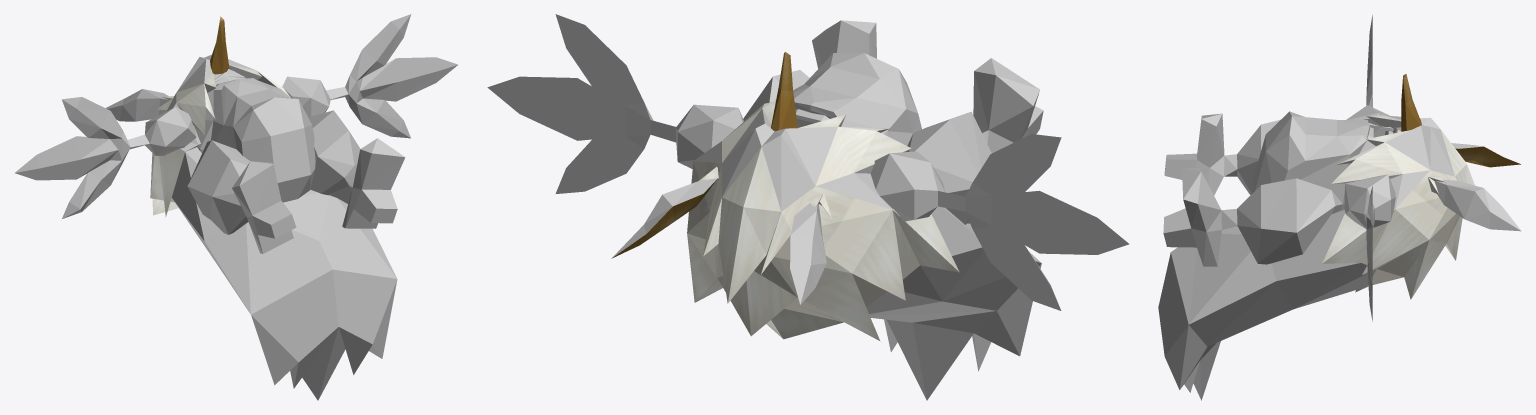
File: BR_Shiftry-Shiny01.obj
3 views of the same model, side by side, from view 1: azimuth 30°, elevation 25°; view 2: azimuth 150°, elevation 25°; view 3: azimuth 270°, elevation 25° (orthographic). The views are drawn at different scales.
Parts seen in each view (by area): view 1: dirteng; view 2: dirteng; view 3: dirteng.
Part boxes in pixels (<box>): dirteng: <box>15,14,457,400</box>; dirteng: <box>487,14,1129,400</box>; dirteng: <box>1158,15,1521,400</box>.
Size of the model in its own units: 19.6 by 13.2 by 13.27.
